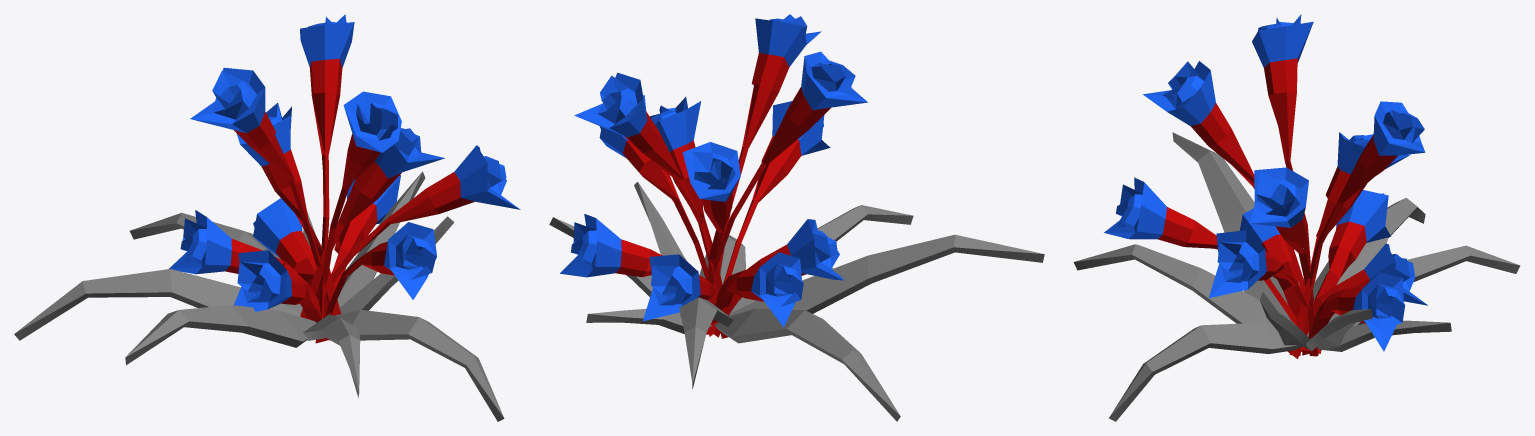
File: PatchNarcissus05.fbx
3 views of the same model, side by side, from view 1: azimuth 30°, elevation 25°; view 2: azimuth 150°, elevation 25°; view 3: azimuth 270°, elevation 25° (orthographic).
Parts seen in each view (by area): view 1: PatchNarcissus05; view 2: PatchNarcissus05; view 3: PatchNarcissus05.
Boxes of the visible parts, x1=… form: PatchNarcissus05: x1=14, y1=14, x2=520, y2=421; PatchNarcissus05: x1=549, y1=14, x2=1044, y2=421; PatchNarcissus05: x1=1073, y1=14, x2=1520, y2=421.
Size of the model in its own units: 68.12 by 51.09 by 64.46.
